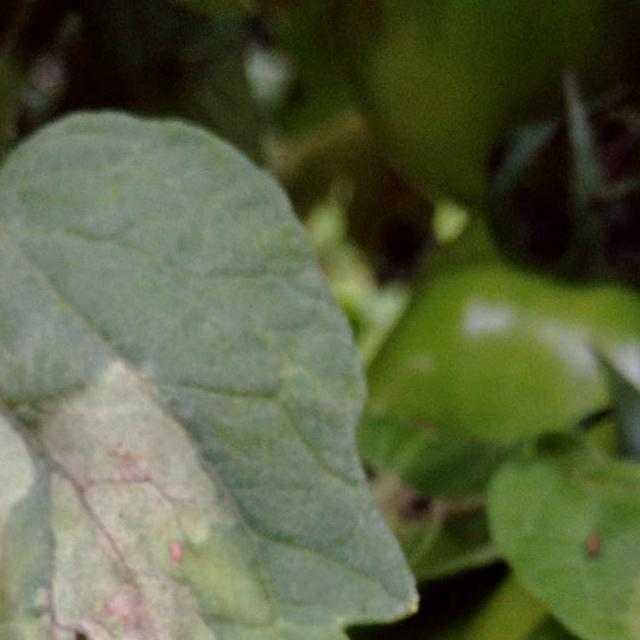Tomato leaf late blight: (0, 37, 407, 640), (0, 337, 259, 640), (490, 419, 640, 640)
